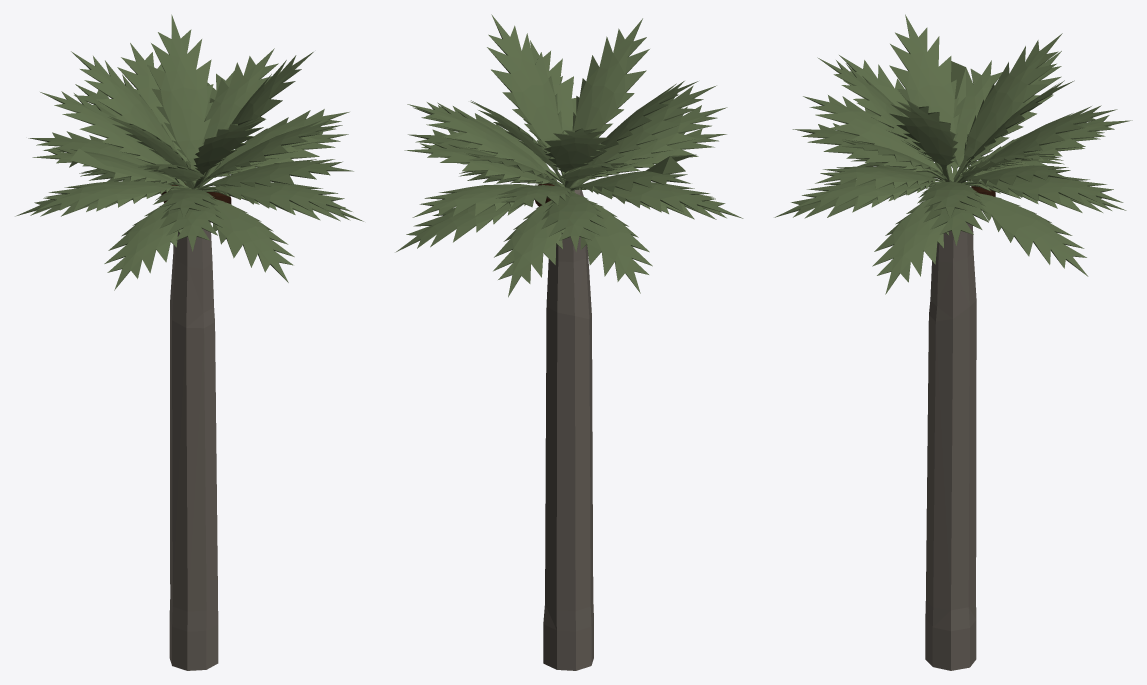
File: 1 Palme.fbx
The picture shows the model from 3 angles, left to right: view 1: azimuth 30°, elevation 25°; view 2: azimuth 150°, elevation 25°; view 3: azimuth 270°, elevation 25°; orthographic projection.
Visible parts, largest first — view 1: Palm 1; view 2: Palm 1; view 3: Palm 1.
Boxes of the visible parts, left/top/right/bottom form: Palm 1: left=15, top=14, right=363, bottom=670; Palm 1: left=395, top=14, right=743, bottom=670; Palm 1: left=774, top=14, right=1132, bottom=670.
Bounding box in the file's own units: 295 × 538 × 288.
